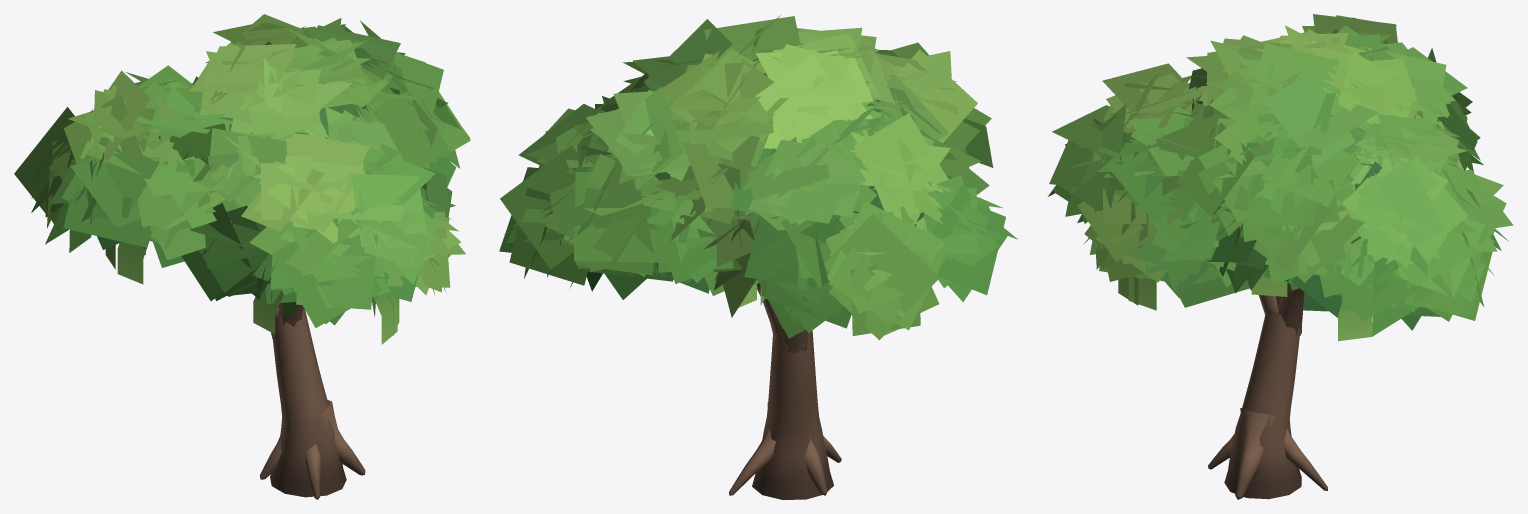
Rendered from tree-village-round-v0.glb.
3 views of the same model, side by side, from view 1: azimuth 30°, elevation 25°; view 2: azimuth 150°, elevation 25°; view 3: azimuth 270°, elevation 25° (orthographic). The views are drawn at different scales.
Visible parts, largest first — view 1: cards_round, bark; view 2: cards_round, bark; view 3: cards_round, bark.
Part boxes in pixels (x1,y1,x2,y2): cards_round: [14, 14, 470, 344]; bark: [259, 303, 365, 499]; cards_round: [499, 15, 1018, 340]; bark: [729, 283, 841, 499]; cards_round: [1048, 14, 1513, 341]; bark: [1208, 283, 1327, 499].
Bounding box in the file's own units: 5.99 × 5.95 × 5.66.
